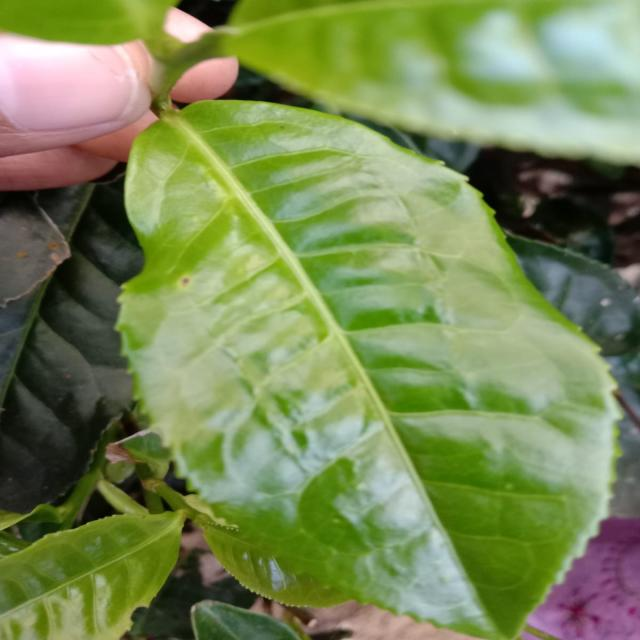Category C(4-7 days): (89, 73, 632, 640)
